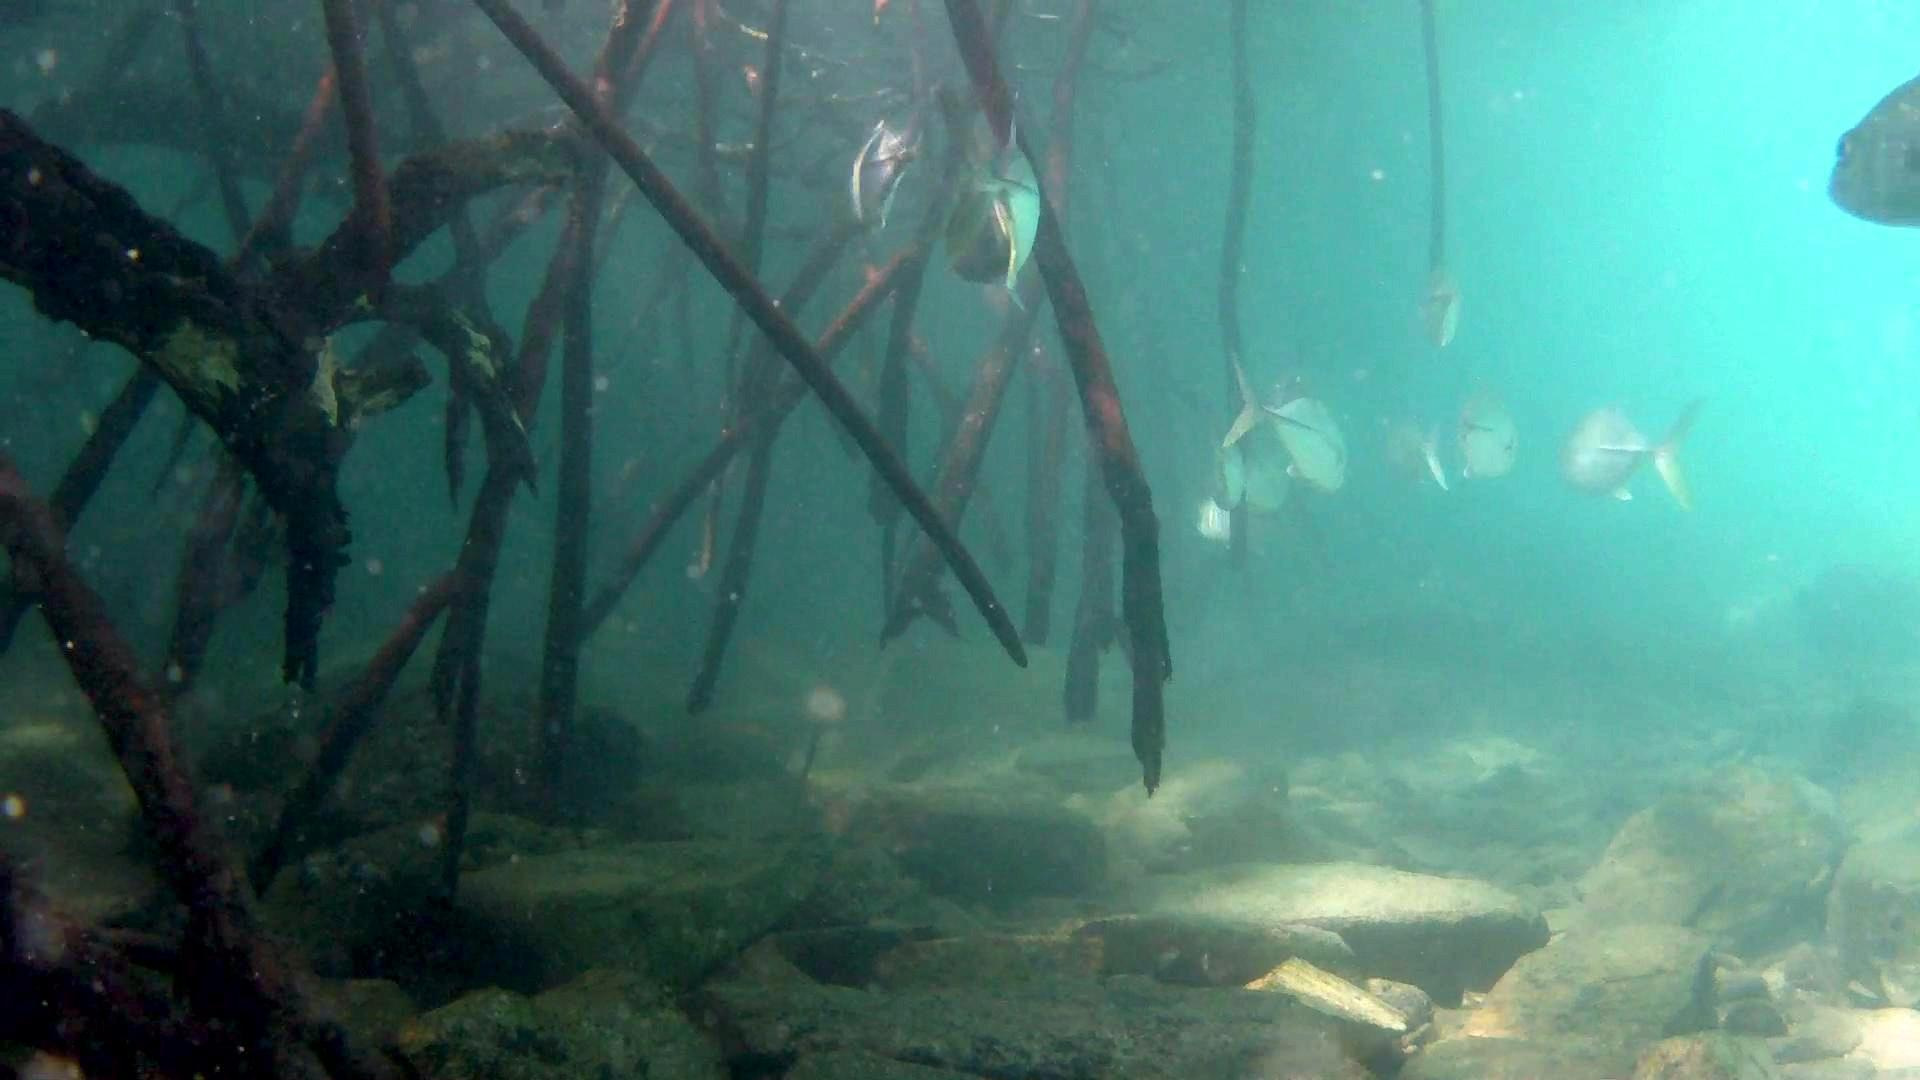caranx: (928, 81, 1046, 317), (1215, 336, 1355, 501), (1823, 63, 1920, 239)
